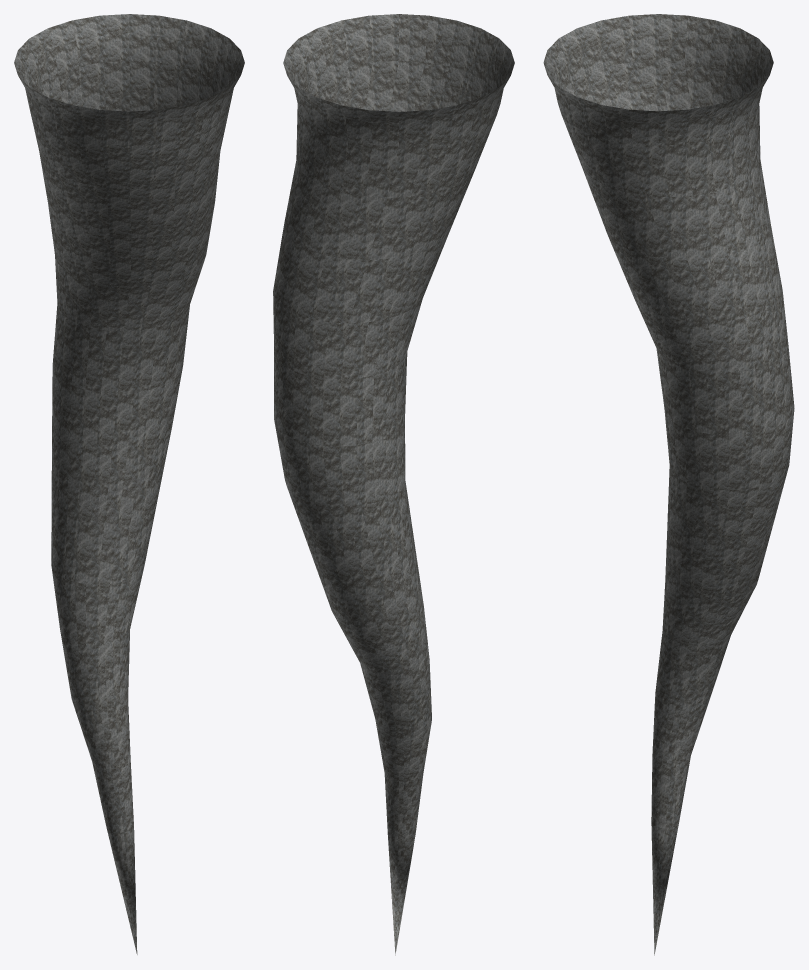
The picture shows the model from 3 angles, left to right: view 1: azimuth 30°, elevation 25°; view 2: azimuth 150°, elevation 25°; view 3: azimuth 270°, elevation 25°; orthographic projection.
Visible parts, largest first — view 1: Twister; view 2: Twister; view 3: Twister.
Part boxes in pixels (x1,y1,x2,y2): Twister: [14, 14, 244, 954]; Twister: [273, 14, 514, 955]; Twister: [543, 14, 794, 955].
Bounding box in the file's own units: 10675 × 11635 × 45541.
Materials: 20 (19 with a texture image).
